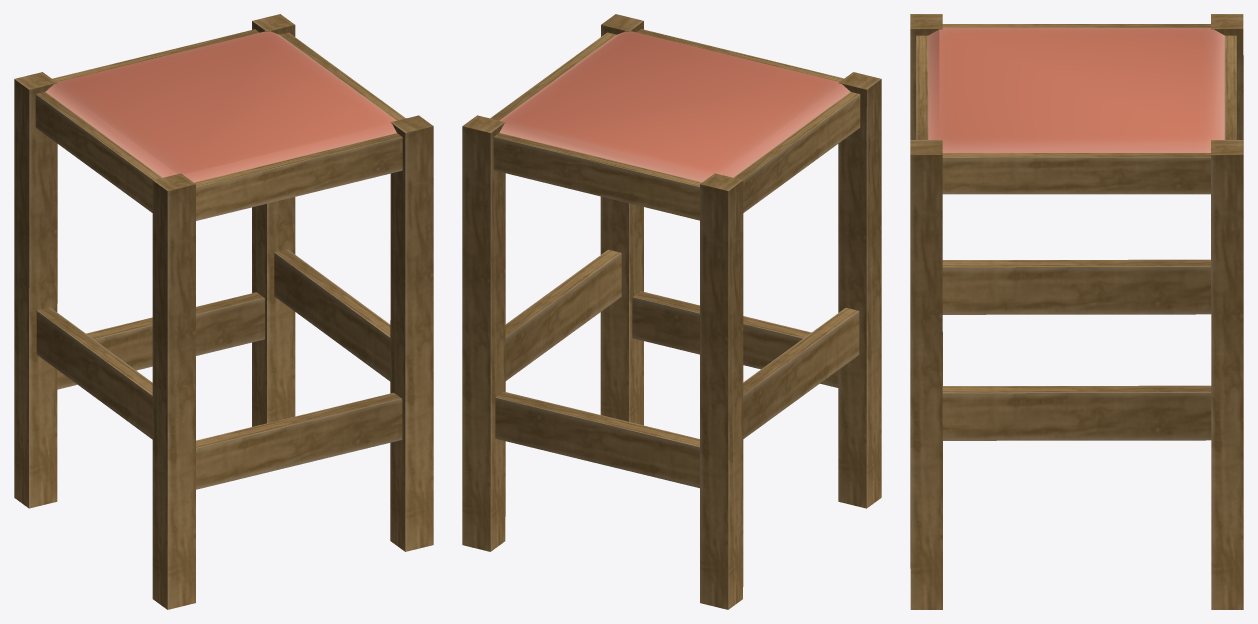
File: chair16.fbx
3 renders of one model, left to right at view 1: azimuth 30°, elevation 25°; view 2: azimuth 150°, elevation 25°; view 3: azimuth 270°, elevation 25°, orthographic. The views are drawn at different scales.
Parts seen in each view (by area): view 1: chair16; view 2: chair16; view 3: chair16.
Part boxes in pixels (bbox=[...]): chair16: bbox=[14, 14, 433, 609]; chair16: bbox=[462, 14, 881, 609]; chair16: bbox=[910, 14, 1243, 609].
Size of the model in its own units: 0.4376 by 0.6583 by 0.4374.
